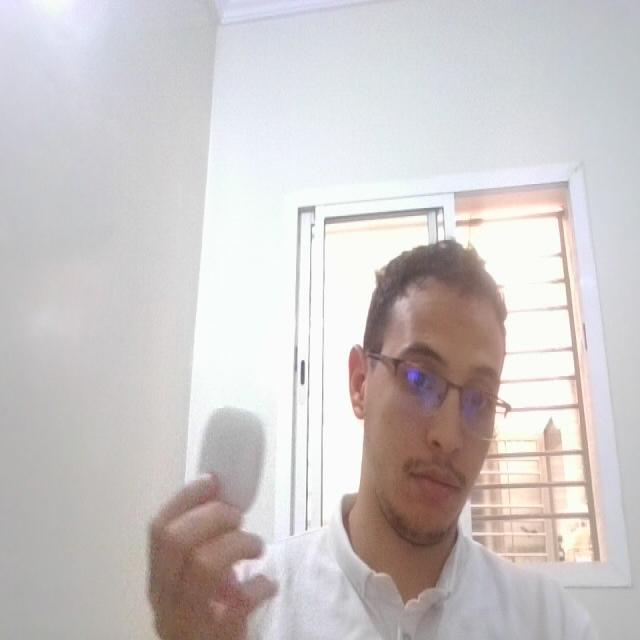airpods: (198, 397, 270, 520)
